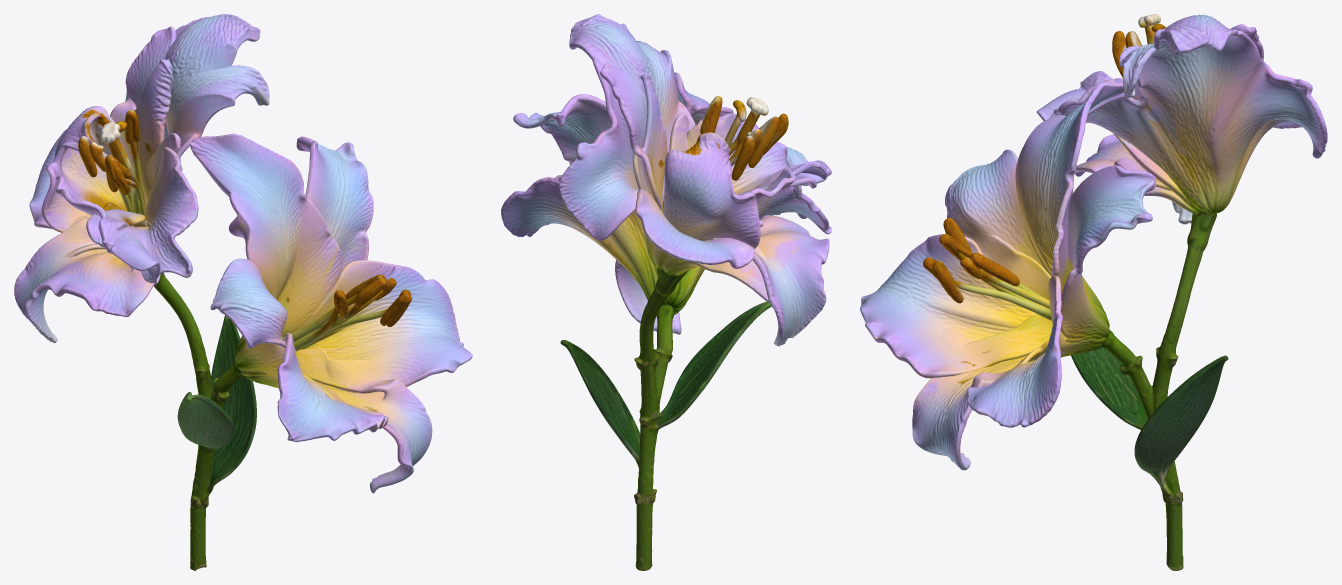
Rendered from uploaded-model.glb.
The picture shows the model from 3 angles, left to right: view 1: azimuth 30°, elevation 25°; view 2: azimuth 150°, elevation 25°; view 3: azimuth 270°, elevation 25°; orthographic projection. The views are drawn at different scales.
Visible parts, largest first — view 1: node_0; view 2: node_0; view 3: node_0.
Part boxes in pixels (<box>): node_0: <box>14,14,472,570</box>; node_0: <box>501,14,831,570</box>; node_0: <box>860,14,1327,570</box>.
Bounding box in the file's own units: 0.821 × 1.12 × 0.8427.
Materials: 1 (1 with a texture image).
